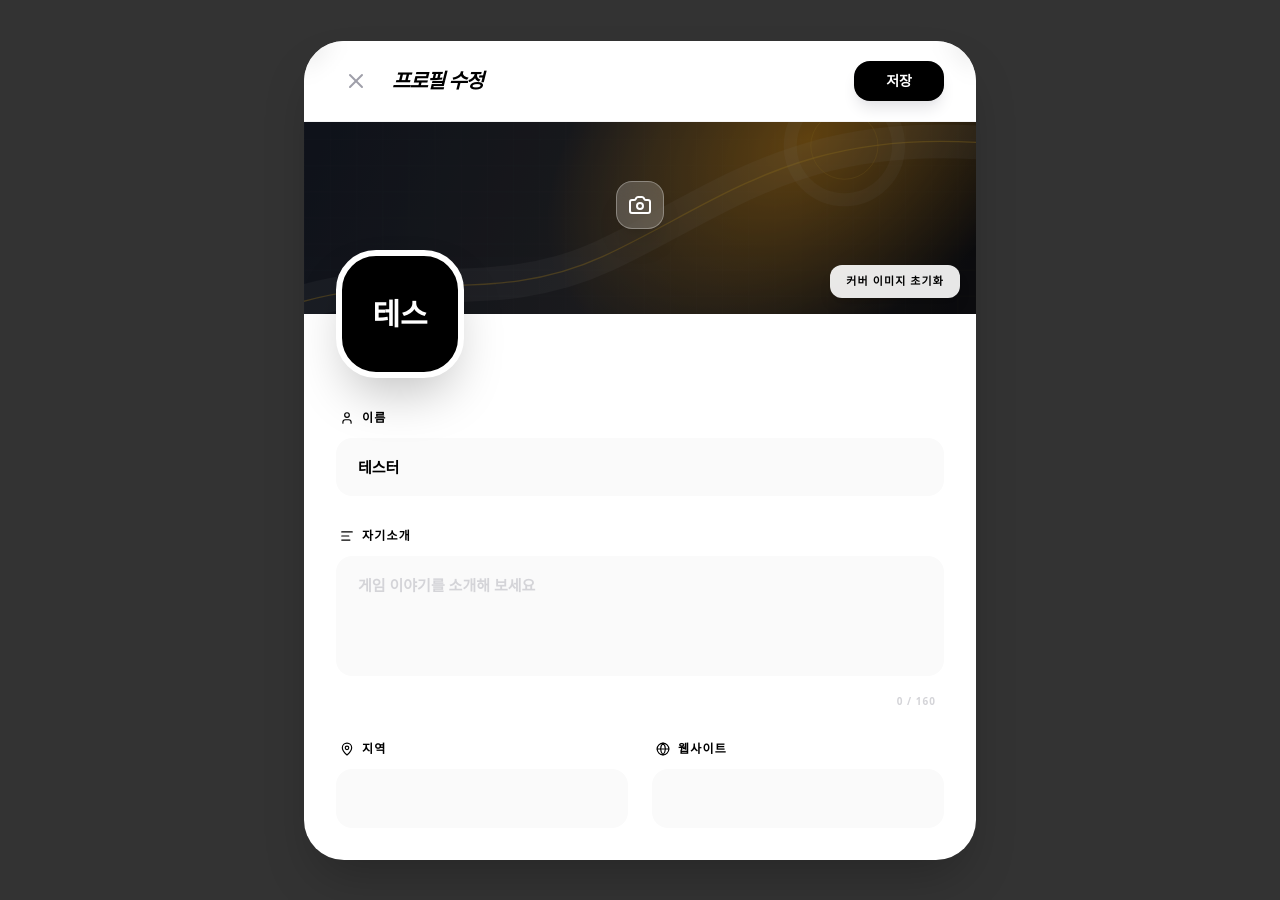
Test case: EditProfileModal 저장 오류 표시 › 한국어 대체 안내를 표시하고 Error.message와 저장 재시도 동작을 유지한다 ({})
Click the button "저장" at (899, 80), box [854,60,944,100]
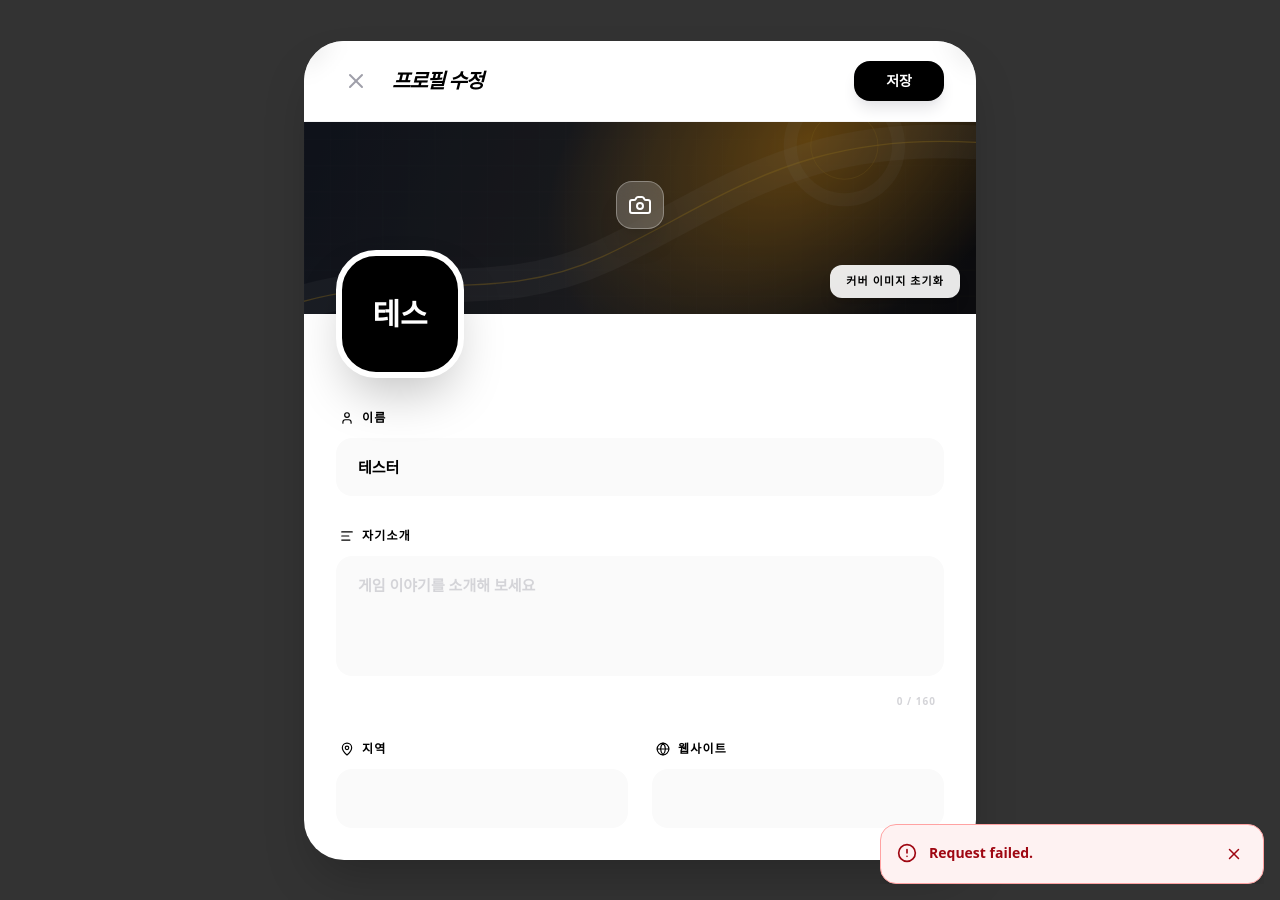
expect the message reads "Request failed.": met, box [929,843,1033,862]
